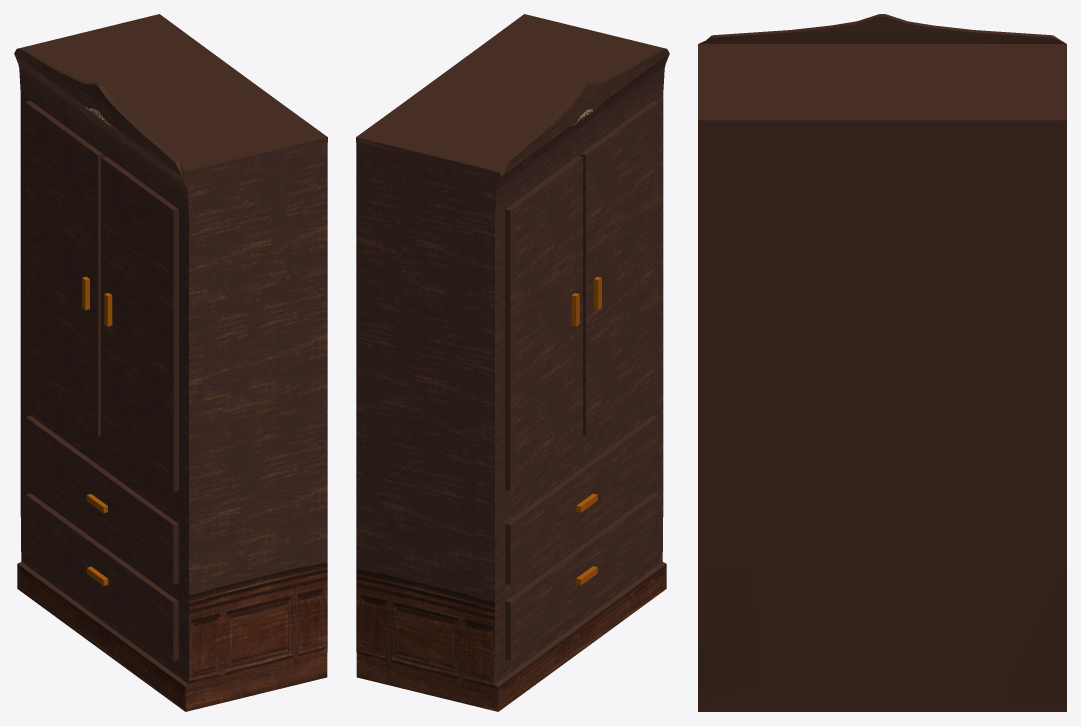
Rendered from drawer_model.FBX.
The picture shows the model from 3 angles, left to right: view 1: azimuth 30°, elevation 25°; view 2: azimuth 150°, elevation 25°; view 3: azimuth 270°, elevation 25°; orthographic projection. The views are drawn at different scales.
Parts seen in each view (by area): view 1: drawer, Schrankgriff; view 2: drawer, Schrankgriff; view 3: drawer.
Boxes of the visible parts, x1,y1,x2,y2 form: drawer: [14, 14, 327, 711]; Schrankgriff: [82, 276, 112, 585]; drawer: [356, 14, 669, 711]; Schrankgriff: [571, 276, 601, 585]; drawer: [698, 14, 1066, 711].
Bounding box in the file's own units: 18.53 × 67.29 × 36.29.
Materials: 2 (1 with a texture image).
